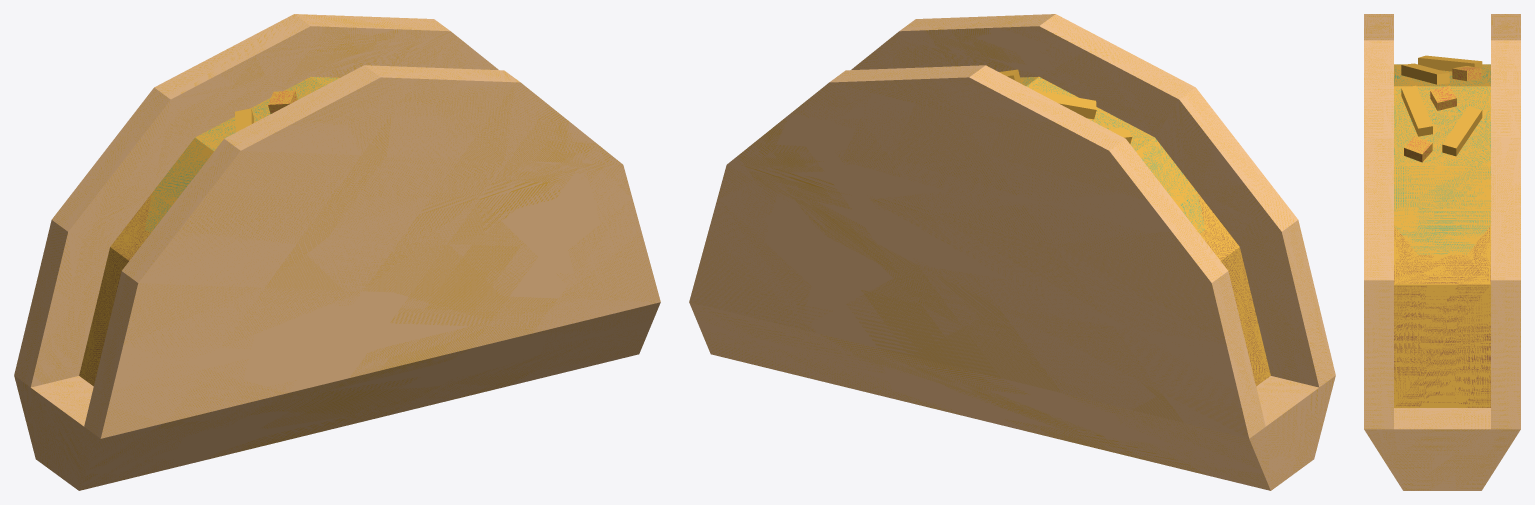
The model's file is taco.dae.
The picture shows the model from 3 angles, left to right: view 1: azimuth 30°, elevation 25°; view 2: azimuth 150°, elevation 25°; view 3: azimuth 270°, elevation 25°; orthographic projection. The views are drawn at different scales.
Visible parts, largest first — view 1: taco; view 2: taco; view 3: taco.
Part boxes in pixels (bbox=[...]): taco: bbox=[14, 14, 660, 490]; taco: bbox=[689, 14, 1335, 490]; taco: bbox=[1364, 14, 1520, 490].
Size of the model in its own units: 0.4256 by 0.2622 by 0.114.
